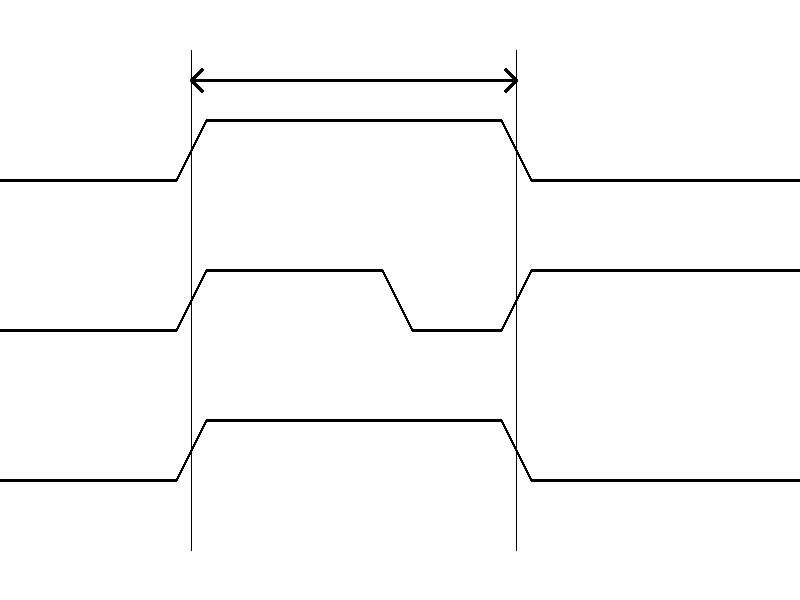double_arrow: (191, 65, 516, 95)
